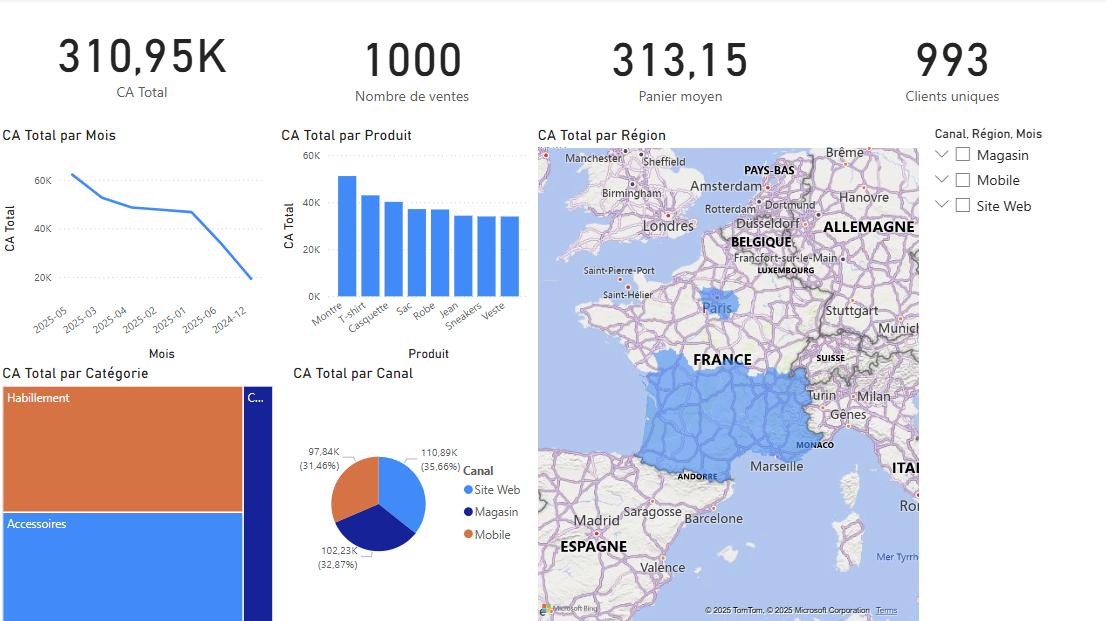

What the dashboard file says about the page in this screenshot:
{"tool":"powerbi","page":{"name":"Page 1","canvas":[1280,720],"ordinal":0},"visuals":[{"type":"card","fields":{"Values":["Sheet1.CA Total"]},"box":[11.1,0,308.2,139.7],"z":0},{"type":"card","fields":{"Values":["Sheet1.Nombre de ventes"]},"box":[319.3,0,308.2,148.5],"z":1000},{"type":"card","fields":{"Values":["Sheet1.Panier moyen"]},"box":[627.4,0,308.2,148.5],"z":2000},{"type":"card","fields":{"Values":["Sheet1.Clients uniques"]},"box":[920.1,6.7,343.7,135.2],"z":3000},{"type":"lineChart","fields":{"Category":["Sheet1.Mois"],"Y":["Sheet1.CA Total"]},"box":[0,148.5,308.2,272.7],"z":4000},{"type":"columnChart","fields":{"Category":["Sheet1.Produit"],"Y":["Sheet1.CA Total"]},"box":[319.3,148.5,292.7,272.7],"z":5000},{"type":"pieChart","fields":{"Category":["Sheet1.Canal"],"Y":["Sheet1.CA Total"]},"box":[332.6,421.3,279.4,299.3],"z":5001},{"type":"filledMap","fields":{"Category":["Sheet1.Région"]},"box":[613.1,147.7,446.5,571.9],"z":5002},{"type":"treemap","fields":{"Group":["Sheet1.Catégorie"],"Values":["Sheet1.CA Total"]},"box":[0,421.3,319.3,299.3],"z":5003},{"type":"slicer","fields":{"Values":["Sheet1.Canal","Sheet1.Région","Sheet1.Mois"]},"box":[1059.6,142.5,219.8,577],"z":5004}]}

Visuals, with their boxes in screenshot pixels (x1, y1, x2, y2), scaled from the page's 1280x720 canvas onto the 1106x621 screenshot:
card - Sheet1.CA Total: x1=10, y1=0, x2=276, y2=120
card - Sheet1.Nombre de ventes: x1=276, y1=0, x2=542, y2=128
card - Sheet1.Panier moyen: x1=542, y1=0, x2=808, y2=128
card - Sheet1.Clients uniques: x1=795, y1=6, x2=1092, y2=122
lineChart - Sheet1.Mois x Sheet1.CA Total: x1=0, y1=128, x2=266, y2=363
columnChart - Sheet1.Produit x Sheet1.CA Total: x1=276, y1=128, x2=529, y2=363
pieChart - Sheet1.Canal x Sheet1.CA Total: x1=287, y1=363, x2=529, y2=620
filledMap - Sheet1.Région: x1=530, y1=127, x2=916, y2=620
treemap - Sheet1.Catégorie x Sheet1.CA Total: x1=0, y1=363, x2=276, y2=620
slicer - Sheet1.Canal x Sheet1.Région: x1=916, y1=123, x2=1105, y2=620
